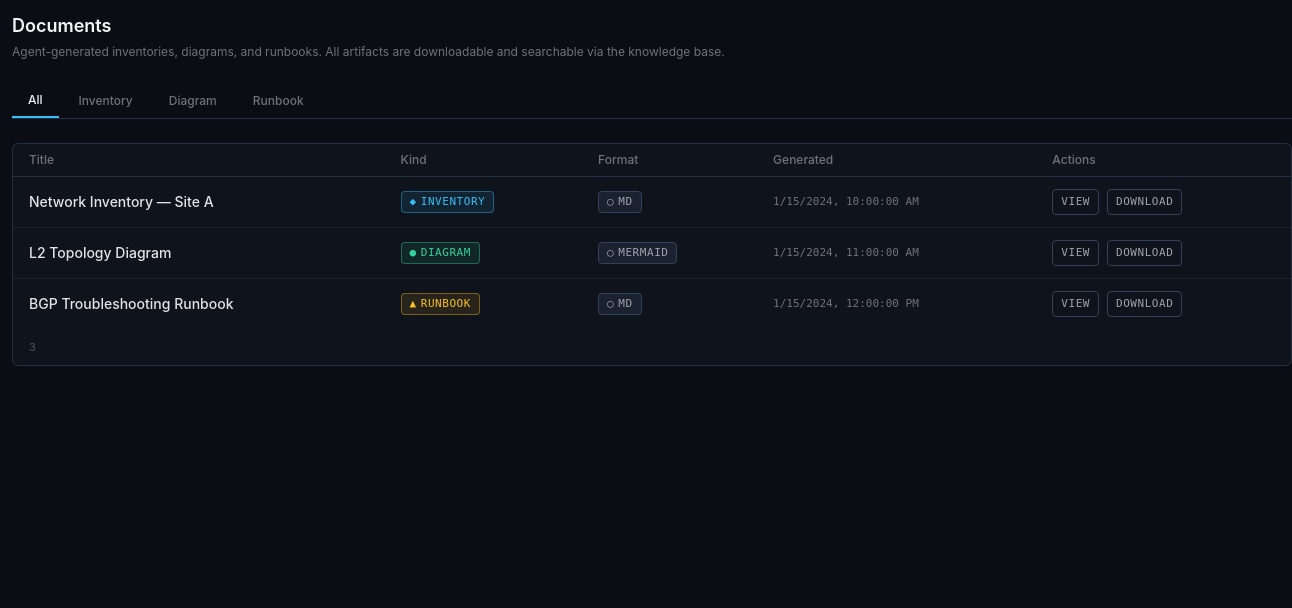
DocumentsPage — Mermaid render panel › clicking View on a non-mermaid doc shows the content panel instead
Click the button "View" in the row of "Network Inventory — Site A": (1076, 202) [1052,189,1099,215]
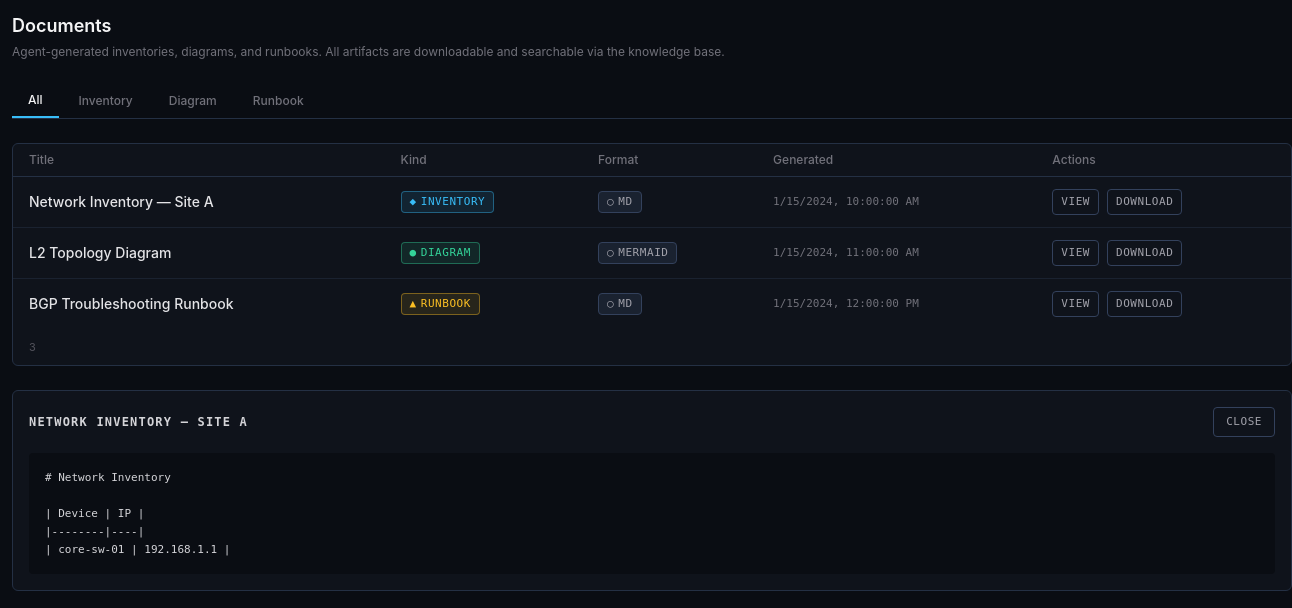
Expected: the element with test id "doc-content-panel" is shown, [12,390,1291,591]
